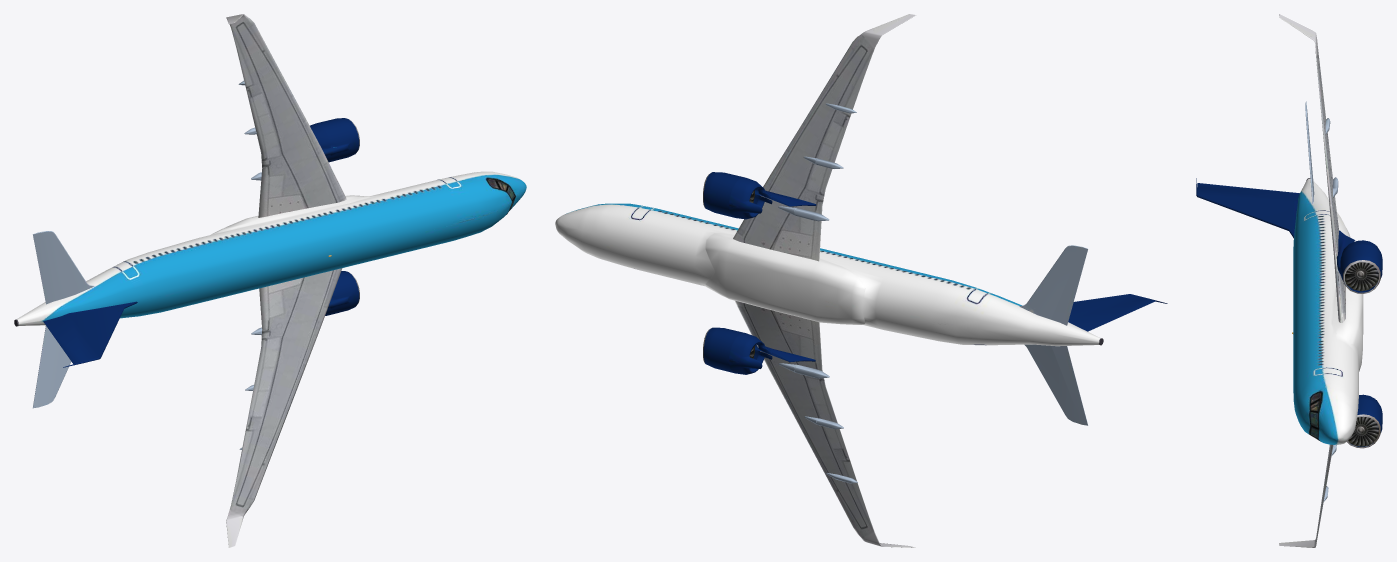
The model's file is airplane_a320.obj.
3 renders of one model, left to right at view 1: azimuth 30°, elevation 25°; view 2: azimuth 150°, elevation 25°; view 3: azimuth 270°, elevation 25°, orthographic.
Size of the model in its own units: 37.57 by 35.37 by 11.29.
1 material, 1 textured.
